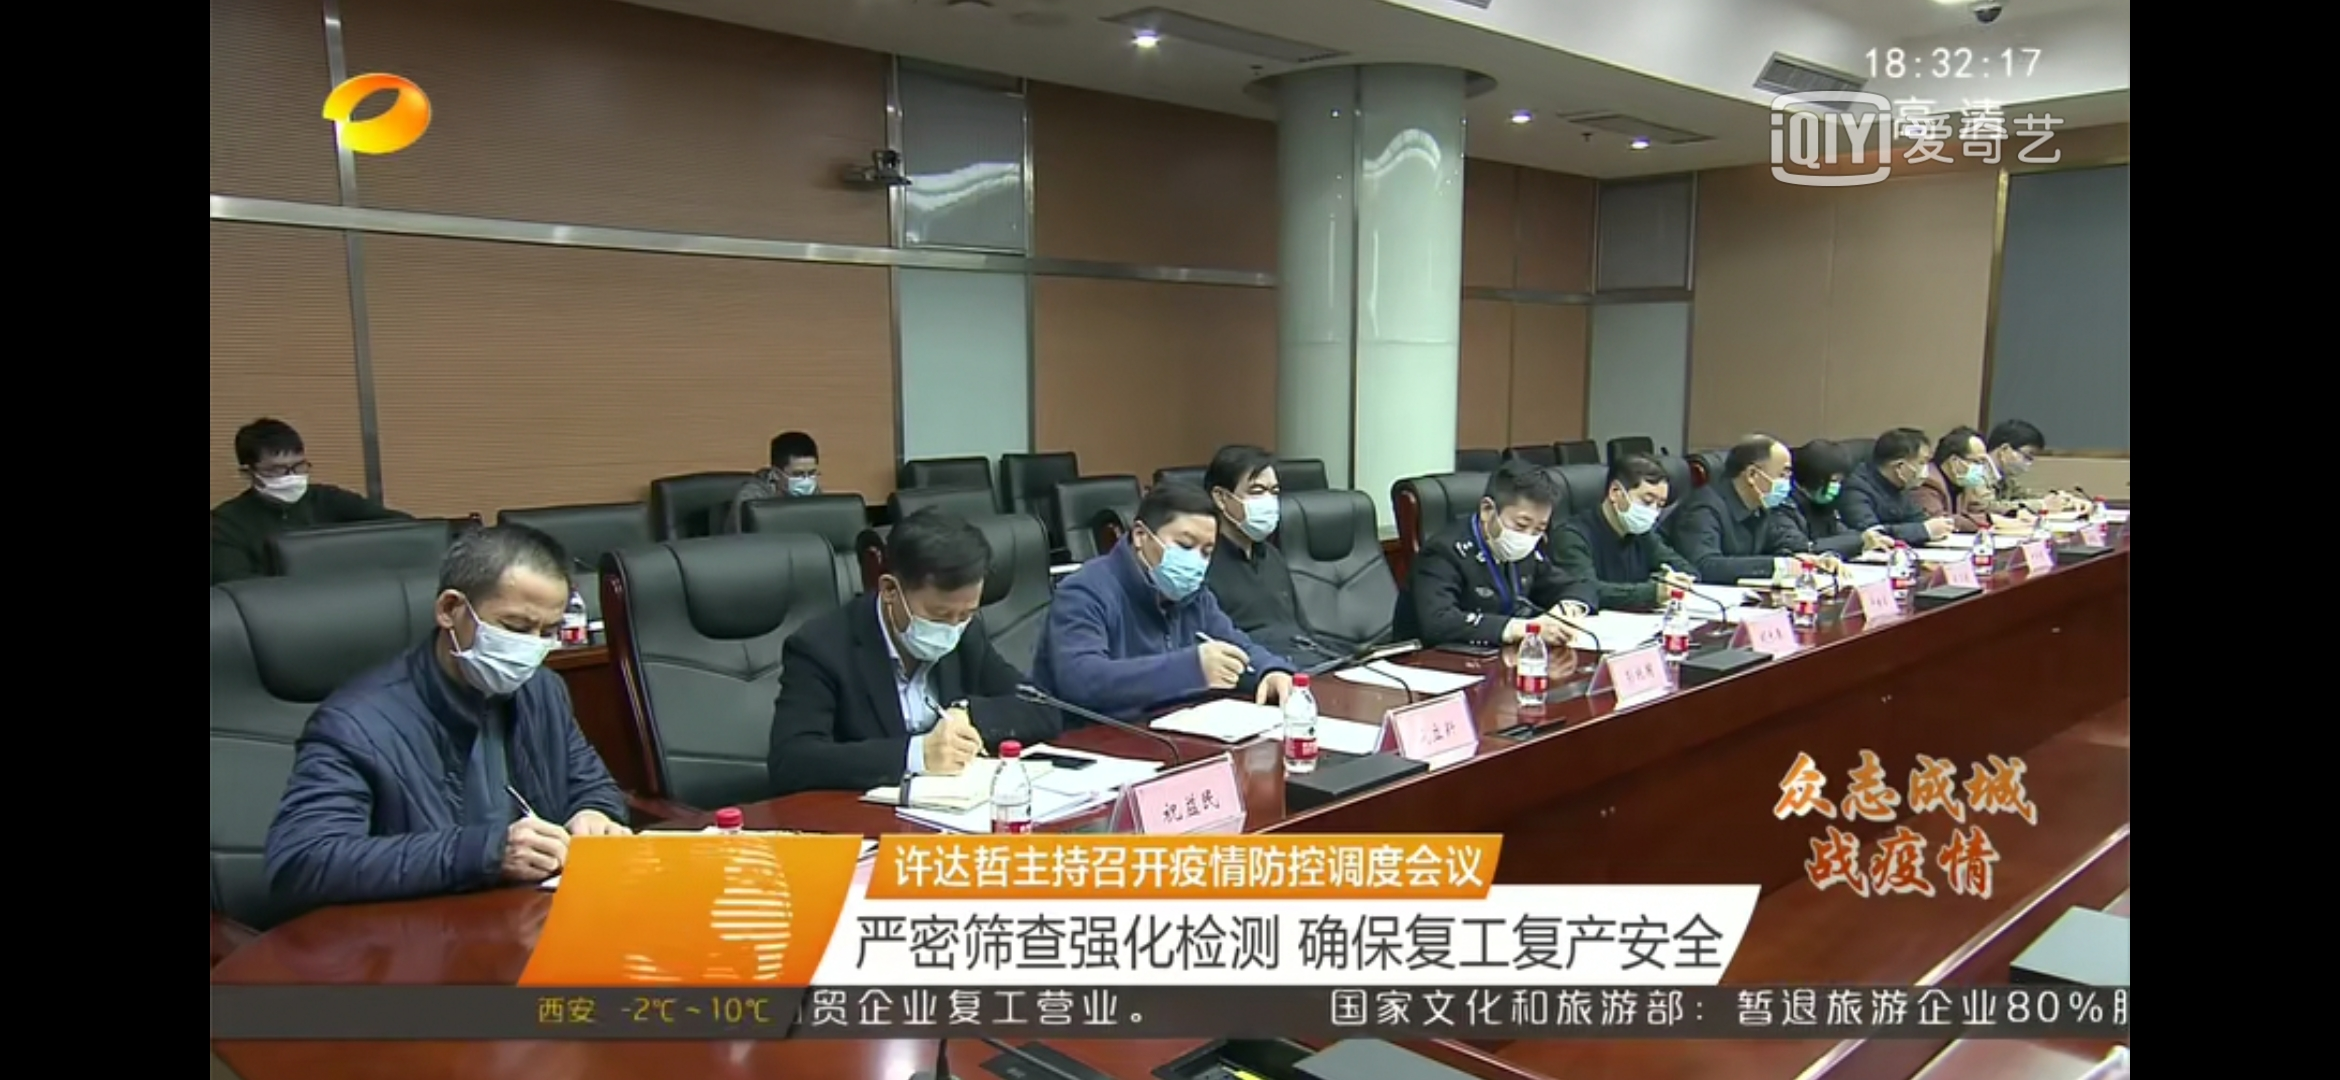correctlyWear: (437, 580, 563, 703), (880, 568, 983, 668), (1128, 518, 1216, 609), (1215, 459, 1285, 547), (1474, 489, 1552, 565), (237, 448, 315, 509), (1607, 476, 1668, 539), (1736, 459, 1794, 513), (770, 450, 825, 501), (1892, 450, 1931, 492), (2001, 442, 2042, 477), (1809, 471, 1843, 510), (1953, 453, 1986, 492)
